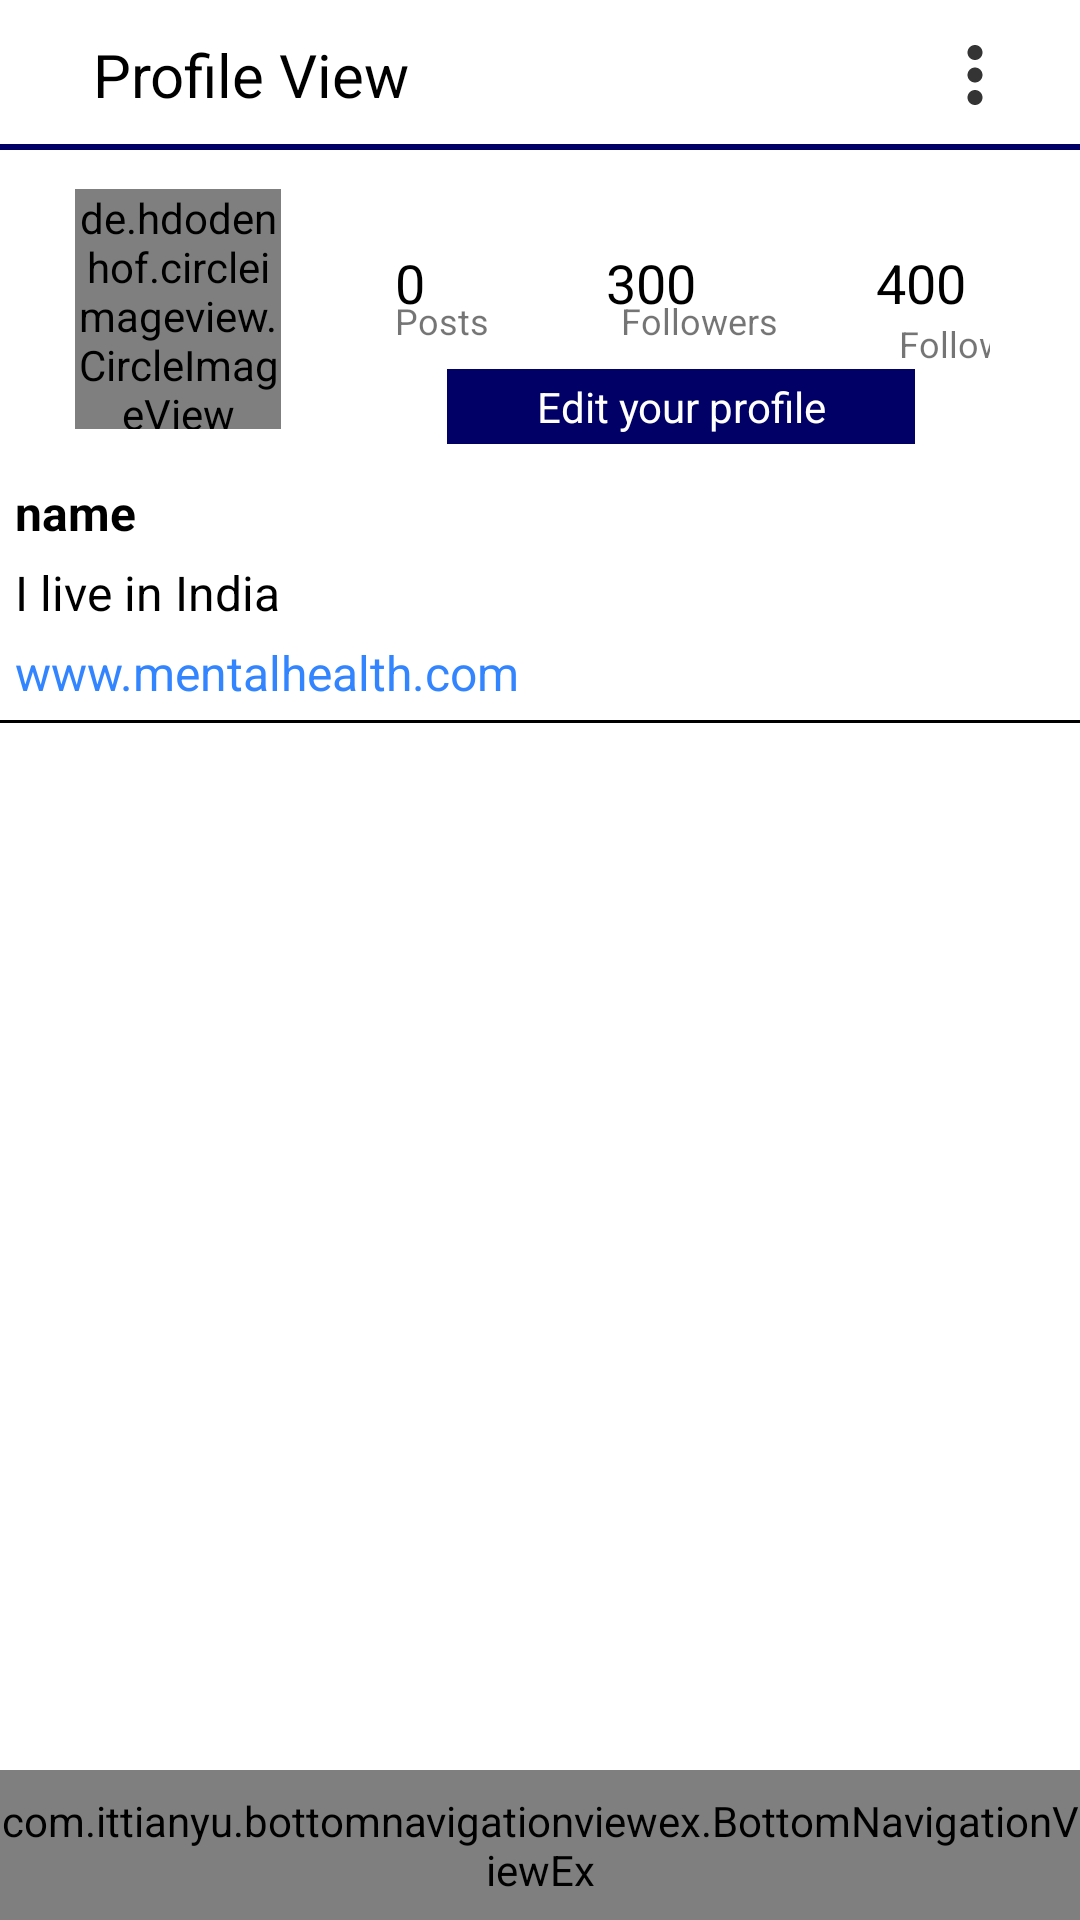

Named icons in this screenshot (1080x1920) and their bounding boxes, (x1, y1, x2, y2):
dot: (967, 45, 983, 105)
